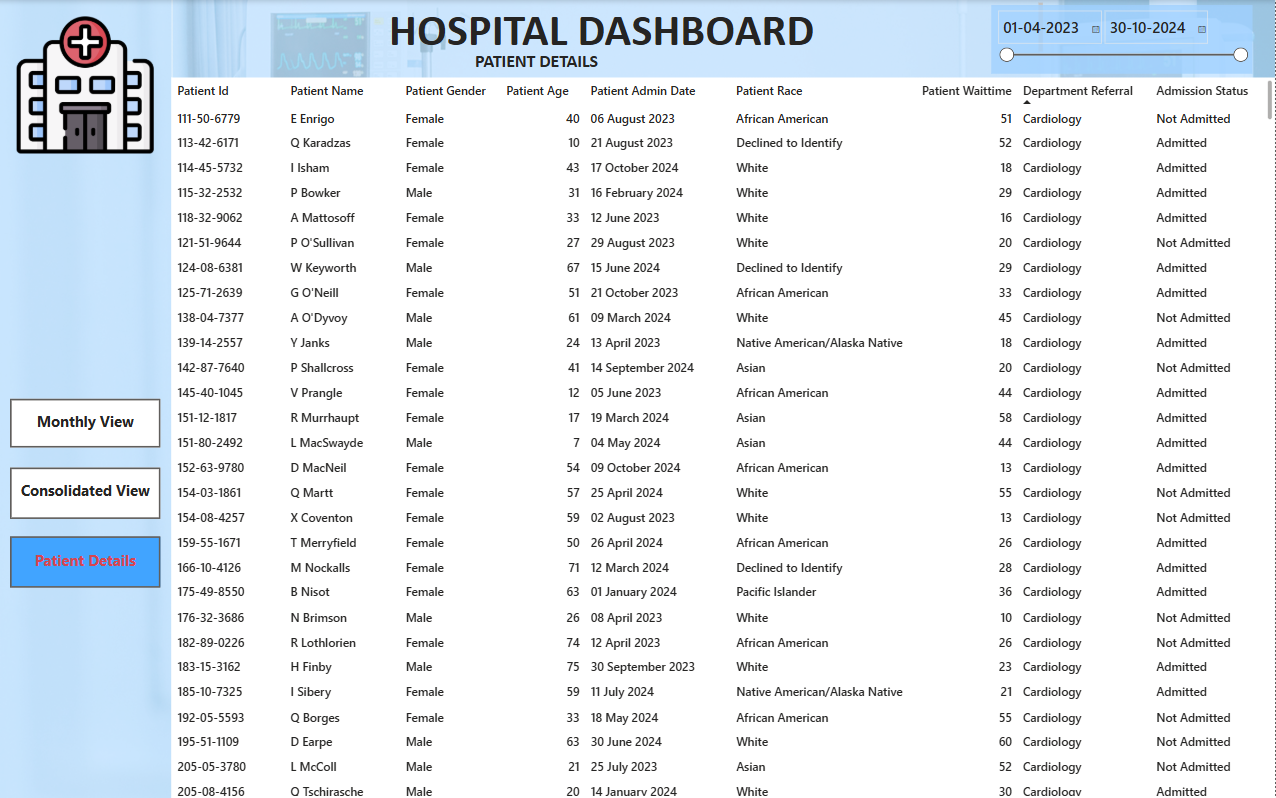

The page's visual inventory and layout, read from the dashboard file:
{"tool":"powerbi","page":{"name":"Patient Details","canvas":[2300,1440],"ordinal":2},"visuals":[{"type":"shape","box":[0,0,309.5,1440.5],"z":0},{"type":"shape","box":[310.3,0,1989.7,141],"z":1000},{"type":"textbox","box":[310.3,0,1574.4,102.6],"z":2000},{"type":"textbox","box":[310.3,84.6,1312.8,76.9],"z":3000},{"type":"slicer","fields":{"Values":["Data Table.Date"]},"box":[1788.1,9.5,471.4,123.8],"z":4000},{"type":"image","box":[19,23.8,271.4,257.1],"z":5000},{"type":"tableEx","fields":{"Values":["Hospital_Data.Patient Id","Hospital_Data.Full Name","Hospital_Data.Patient Gender","Hospital_Data.Patient Age","Hospital_Data.Patient Admin Date","Hospital_Data.Patient Race","Hospital_Data.Patient Waittime","Hospital_Data.Department Referral","Hospital_Data.Admission Status"]},"box":[309.5,140.5,1990.5,1300],"z":6000},{"type":"textbox","box":[19,719,271.4,88.1],"z":6001},{"type":"textbox","box":[19,842.9,271.4,92.9],"z":6002},{"type":"textbox","box":[19,969,271.4,88.1],"z":6003},{"type":"actionButton","box":[19,719,271.4,88.1],"z":6004},{"type":"actionButton","box":[19,842.9,271.4,92.9],"z":6005},{"type":"actionButton","box":[19,966.7,271.4,92.9],"z":6006}]}

Visuals, with their boxes in screenshot pixels (x1, y1, x2, y2), scaled from the page's 2300x1440 canvas onto the 1276x798 screenshot:
shape: 0/0/172/797
shape: 172/0/1275/78
textbox: 172/0/1046/57
textbox: 172/47/900/89
slicer - Data Table.Date: 992/5/1254/74
image: 11/13/161/156
tableEx - Hospital_Data.Patient Id x Hospital_Data.Full Name: 172/78/1275/797
textbox: 11/398/161/447
textbox: 11/467/161/519
textbox: 11/537/161/586
actionButton: 11/398/161/447
actionButton: 11/467/161/519
actionButton: 11/536/161/587
